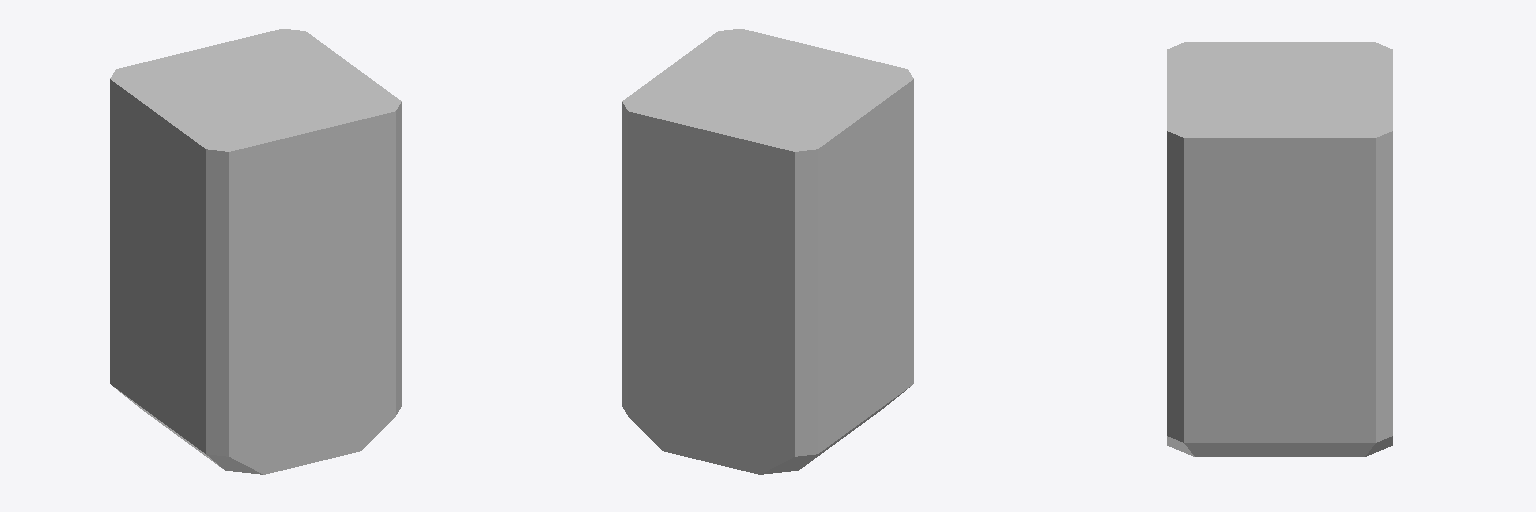
File: VendingMachineCollision.obj
3 views of the same model, side by side, from view 1: azimuth 30°, elevation 25°; view 2: azimuth 150°, elevation 25°; view 3: azimuth 270°, elevation 25° (orthographic).
Parts seen in each view (by area): view 1: col; view 2: col; view 3: col.
Part boxes in pixels (x1,y1,x2,y2): col: (110, 29, 401, 474); col: (622, 29, 913, 474); col: (1167, 42, 1392, 456).
Bounding box in the file's own units: 4.95 × 8 × 4.95.